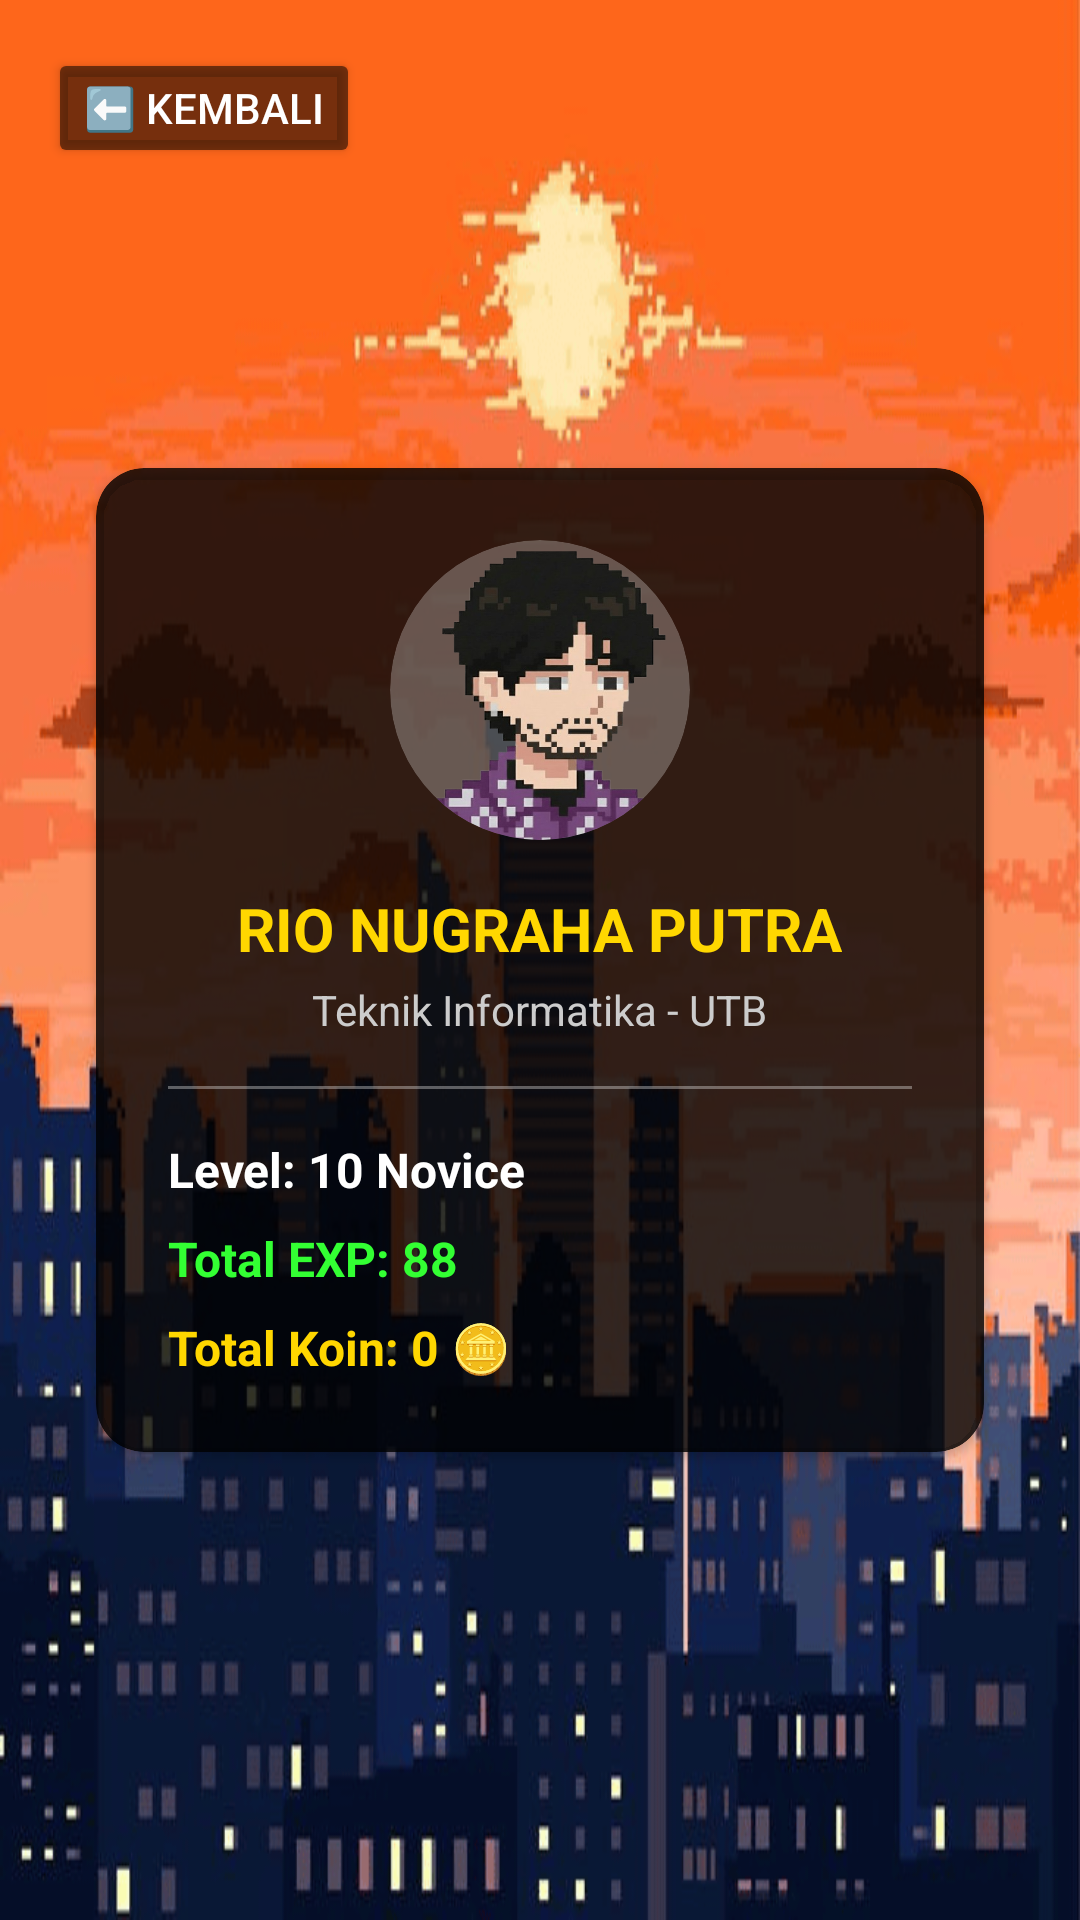

Icon click points for this 1080px x 1920px phone screenshot, format (x,y):
kepala: (540,690)
